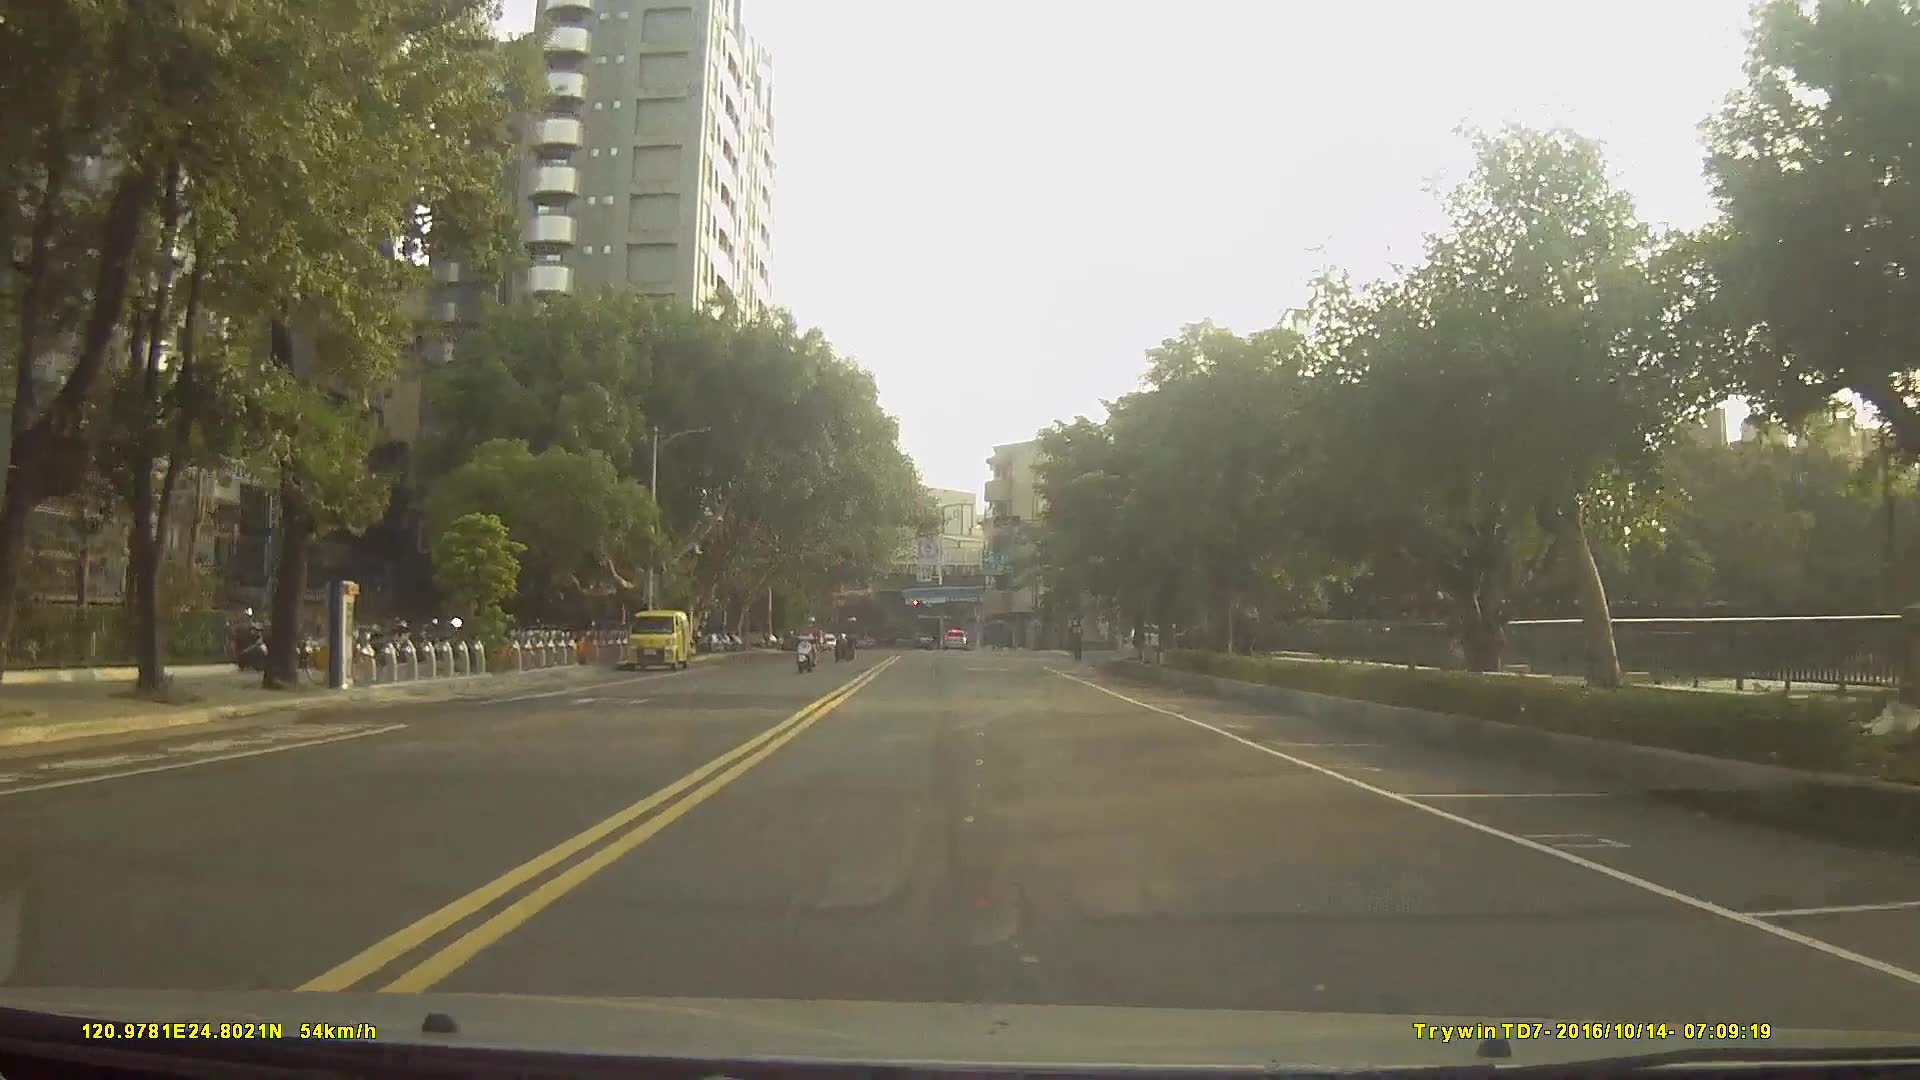pedestrian: (1094, 614, 1114, 653)
rider: (795, 617, 824, 673), (832, 615, 859, 666), (1066, 615, 1086, 663)
vehicle: (937, 628, 968, 652)
